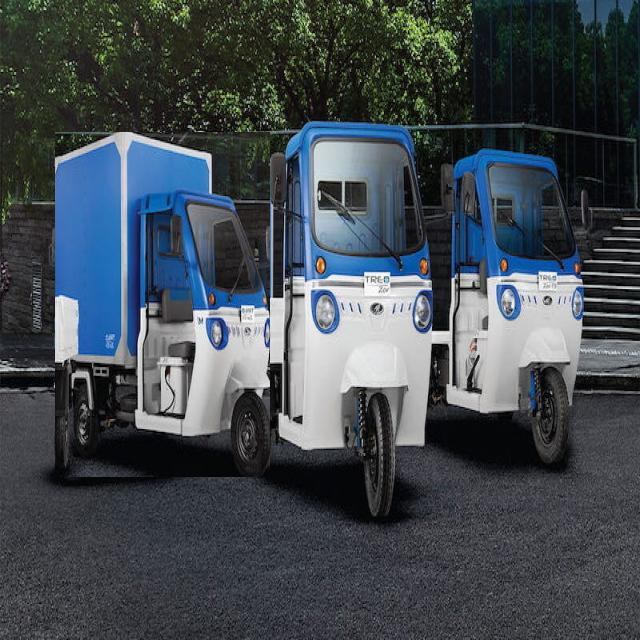autorickshaw: (55, 132, 270, 477), (248, 124, 432, 518), (431, 151, 585, 465)
